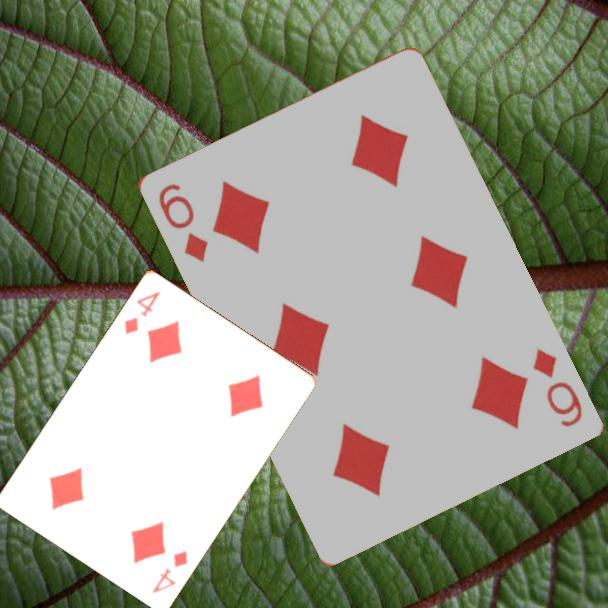d04: (121, 287, 163, 337), (149, 546, 191, 596)
d06: (528, 344, 585, 430), (154, 180, 211, 265)
